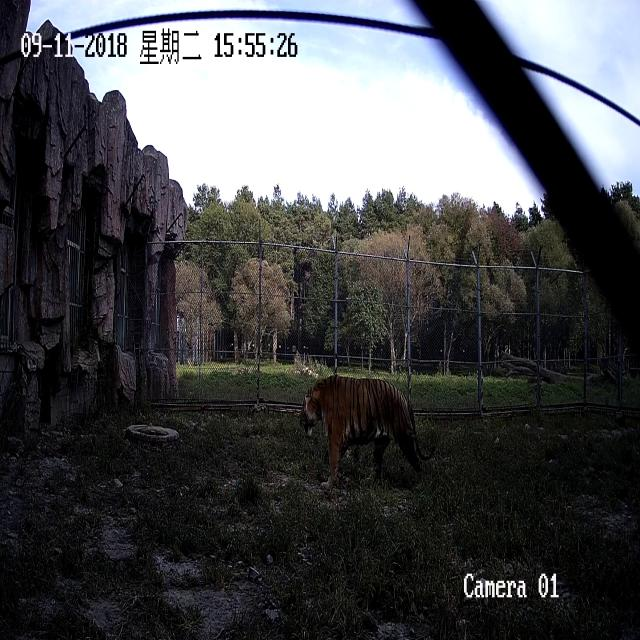Tiger: (294, 363, 454, 494)
